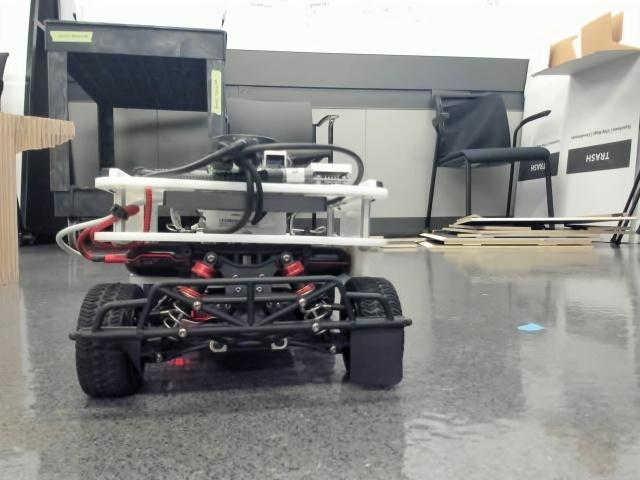Car: (75, 132, 405, 399)
